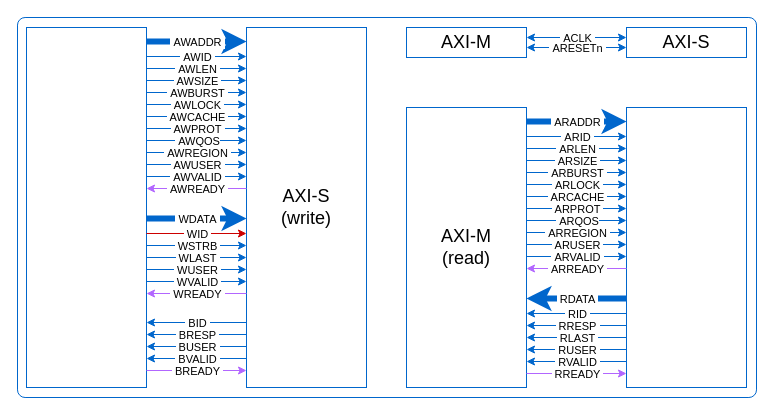
This 774x415 diagram has some shape labels left out. Here are the shapes that lost their labels. From the top down, the centre of each, then its label:
At (x=86, y=207): "AXI-M (write)".
At (x=686, y=247): "AXI-S (read)".
